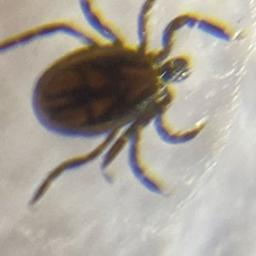Ixodes scapularis: (7, 2, 232, 206)
